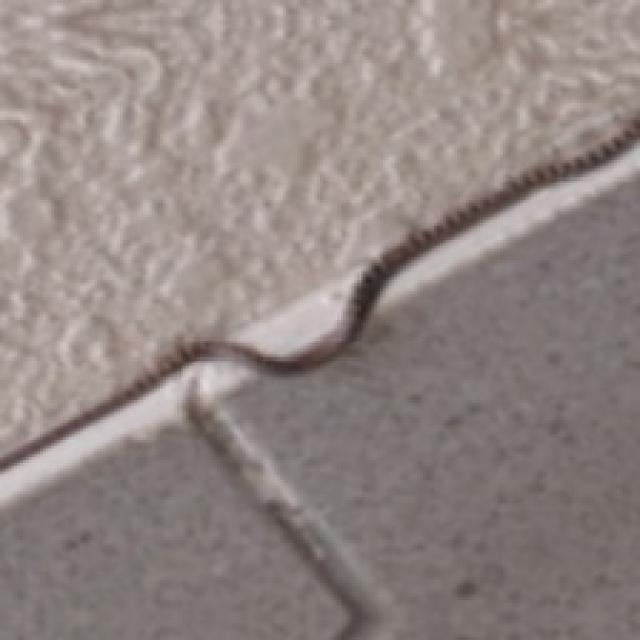paradise tree snake: (0, 0, 637, 451), (0, 431, 340, 637)
